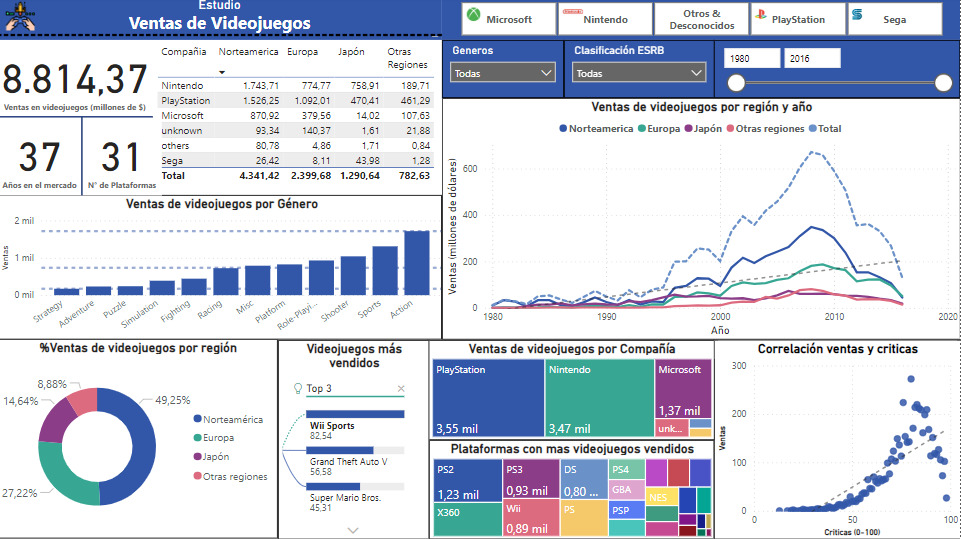

What the dashboard file says about the page in this screenshot:
{"tool":"powerbi","page":{"name":"Página 1","canvas":[1280,720],"ordinal":0},"visuals":[{"type":"lineChart","title":"Ventas de videojuegos por región y año","fields":{"Y":["Sum(Data.na_sales)","Sum(Data.eu_sales)","Sum(Data.jp_sales)","Sum(Data.other_sales)","Sum(Data.total_sales)"],"Category":["Data.year_of_release"]},"box":[591,134.3,688.7,320.6],"z":0},{"type":"donutChart","title":"%Ventas de videojuegos por región","fields":{"Y":["Sum(Data.na_sales)","Sum(Data.eu_sales)","Sum(Data.jp_sales)","Sum(Data.other_sales)"]},"box":[0,454.9,373.4,265.1],"z":1000},{"type":"tableEx","fields":{"Values":["Data.company","Data.na_sales","Data.eu_sales","Data.jp_sales","Data.other_sales"]},"box":[207.4,57.3,383.6,205.7],"z":2000},{"type":"clusteredColumnChart","title":"Ventas de videojuegos por Género","fields":{"Y":["Sum(Data.total_sales)"],"Category":["Data.genre"]},"box":[0,263,591,192.2],"z":3000},{"type":"slicer","fields":{"Values":["Data.company (grupos)"]},"box":[591,0,688.7,57.3],"z":4000},{"type":"treemap","title":"Ventas de videojuegos por Compañía","fields":{"Group":["Data.company"],"Values":["Sum(Data.total_sales)"]},"box":[572.3,455.1,381,132.7],"z":5000},{"type":"slicer","fields":{"Values":["Data.genre"]},"box":[591,57.3,162.1,77],"z":6000},{"type":"scatterChart","title":"Correlación ventas y criticas","fields":{"X":["Data.critic_score"],"Y":["Data.total_sales"]},"box":[952.5,455.1,327.5,264.6],"z":7000},{"type":"card","fields":{"Values":["Sum(Data.total_sales)"]},"box":[0,57.3,207.4,102.9],"z":8000},{"type":"slicer","fields":{"Values":["Data.year_of_release"]},"box":[952.8,57.3,326.9,77],"z":9000},{"type":"slicer","fields":{"Values":["Data.rating"]},"box":[753.1,57.3,199.7,77],"z":10000},{"type":"card","fields":{"Values":["Count(Data.year_of_release)"]},"box":[0,160.3,112.8,103],"z":11000},{"type":"card","fields":{"Values":["Count(Data.platform)"]},"box":[113,160.2,106.2,102.9],"z":12000},{"type":"textbox","title":"Estudio","box":[0,0,591,57.3],"z":13000},{"type":"treemap","title":"Plataformas con mas videojuegos vendidos","fields":{"Group":["Data.platform"],"Values":["Sum(Data.total_sales)"]},"box":[574.1,587.9,379.3,131.9],"z":14000},{"type":"decompositionTreeVisual","title":"Videojuegos más vendidos","fields":{"ExplainBy":["Data.name"],"Analyze":["Sum(Data.total_sales)"]},"box":[373.2,455.1,200.8,264.6],"z":15000},{"type":"shape","box":[0,145.9,207.4,26.1],"z":16000},{"type":"shape","box":[106.6,159.4,12.5,103.9],"z":17000},{"type":"image","box":[746,0,36.7,38.5],"z":18000},{"type":"image","box":[619.7,8.1,27.8,29.6],"z":19000},{"type":"image","box":[1002.1,6.3,26,31.3],"z":20000},{"type":"image","box":[1131,8.1,24.2,28.7],"z":21000},{"type":"image","box":[5.9,0,50.6,50.6],"z":21001}]}

Visuals, with their boxes in screenshot pixels (x1, y1, x2, y2), scaled from the page's 1280x720 canvas onto the 961x539 screenshot:
"Ventas de videojuegos por región y año" lineChart: locate(444, 101, 960, 341)
"%Ventas de videojuegos por región" donutChart: locate(0, 341, 280, 538)
tableEx - Data.company x Data.na_sales: locate(156, 43, 444, 197)
"Ventas de videojuegos por Género" clusteredColumnChart: locate(0, 197, 444, 341)
slicer - Data.company (grupos): locate(444, 0, 960, 43)
"Ventas de videojuegos por Compañía" treemap: locate(430, 341, 716, 440)
slicer - Data.genre: locate(444, 43, 565, 101)
"Correlación ventas y criticas" scatterChart: locate(715, 341, 960, 538)
card - Sum(Data.total_sales): locate(0, 43, 156, 120)
slicer - Data.year_of_release: locate(715, 43, 960, 101)
slicer - Data.rating: locate(565, 43, 715, 101)
card - Count(Data.year_of_release): locate(0, 120, 85, 197)
card - Count(Data.platform): locate(85, 120, 165, 197)
"Estudio" textbox: locate(0, 0, 444, 43)
"Plataformas con mas videojuegos vendidos" treemap: locate(431, 440, 716, 538)
"Videojuegos más vendidos" decompositionTreeVisual: locate(280, 341, 431, 538)
shape: locate(0, 109, 156, 129)
shape: locate(80, 119, 89, 197)
image: locate(560, 0, 588, 29)
image: locate(465, 6, 486, 28)
image: locate(752, 5, 772, 28)
image: locate(849, 6, 867, 28)
image: locate(4, 0, 42, 38)
